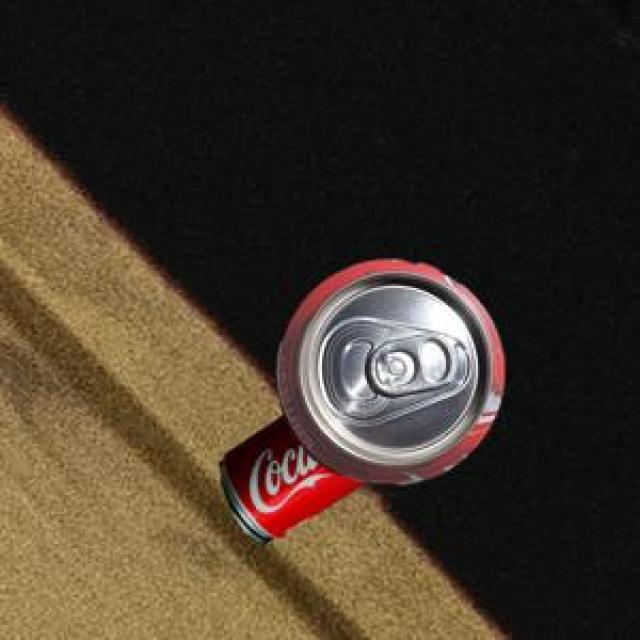Can: (274, 257, 500, 481), (217, 413, 362, 541)
